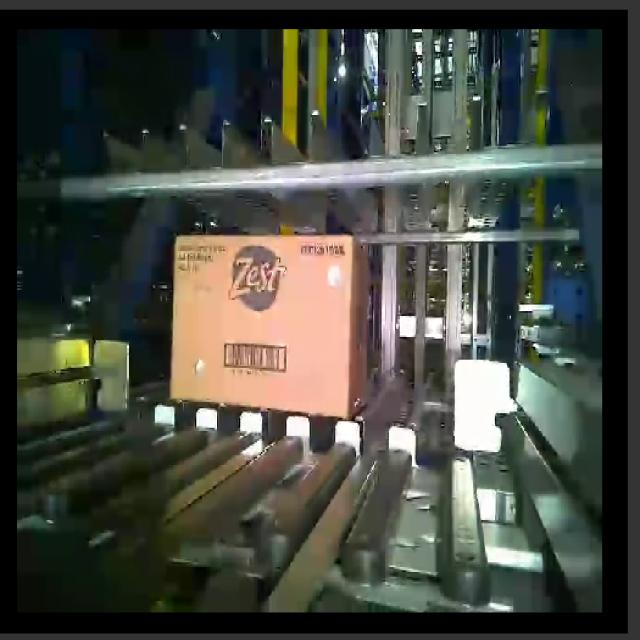box: (169, 228, 354, 417)
